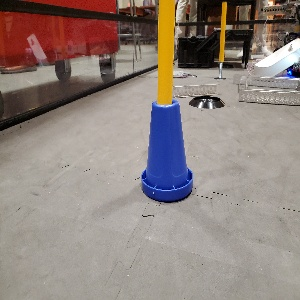Blue_1: (140, 99, 194, 203)
